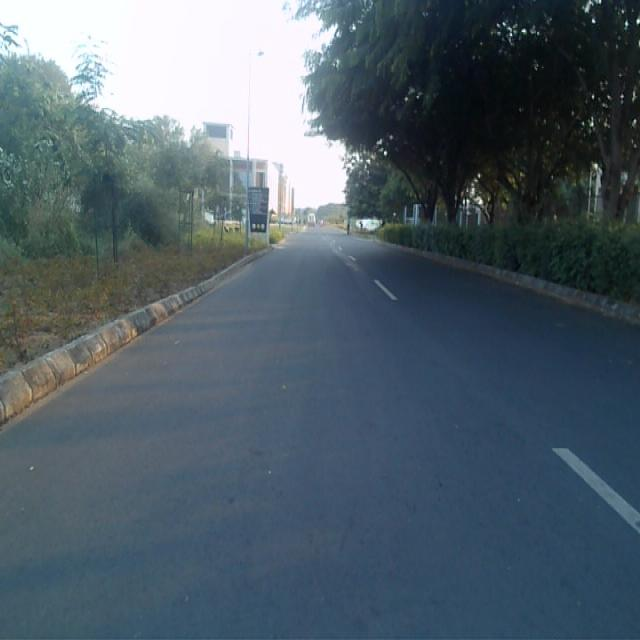lane: (0, 238, 640, 640)
